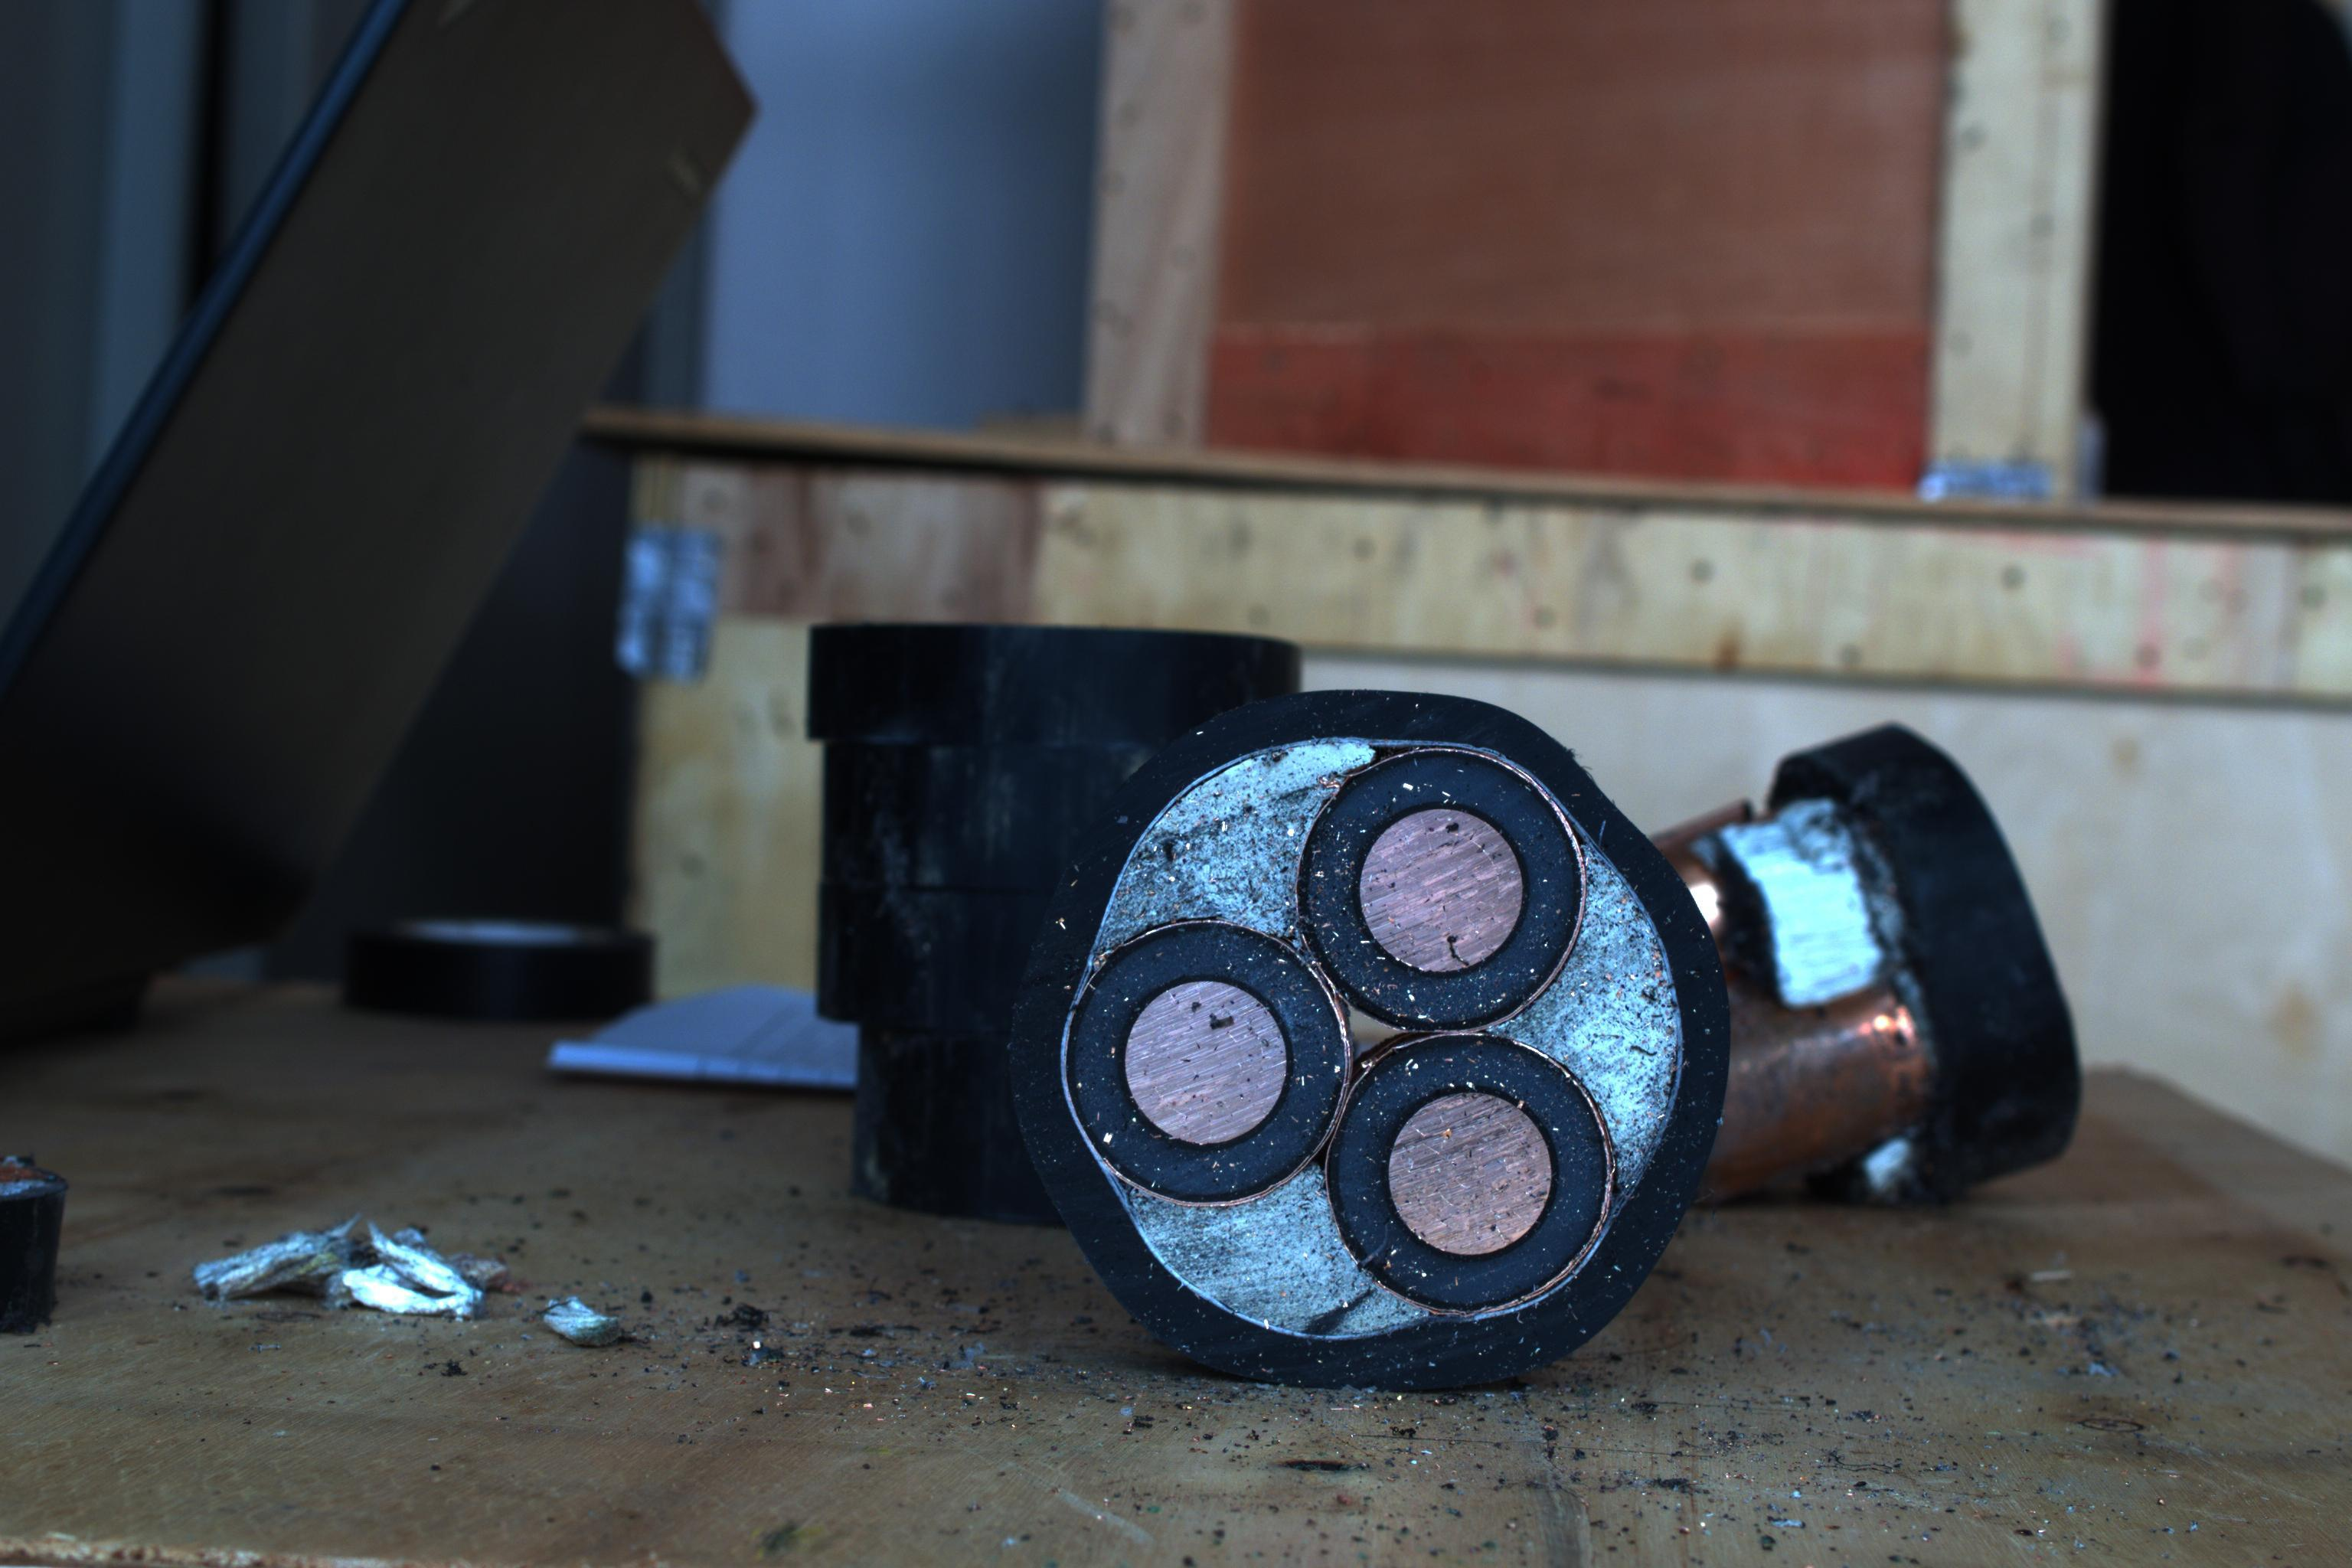ZA_YJV_8.7_10kV_3x240: (1022, 698, 1732, 1391)
